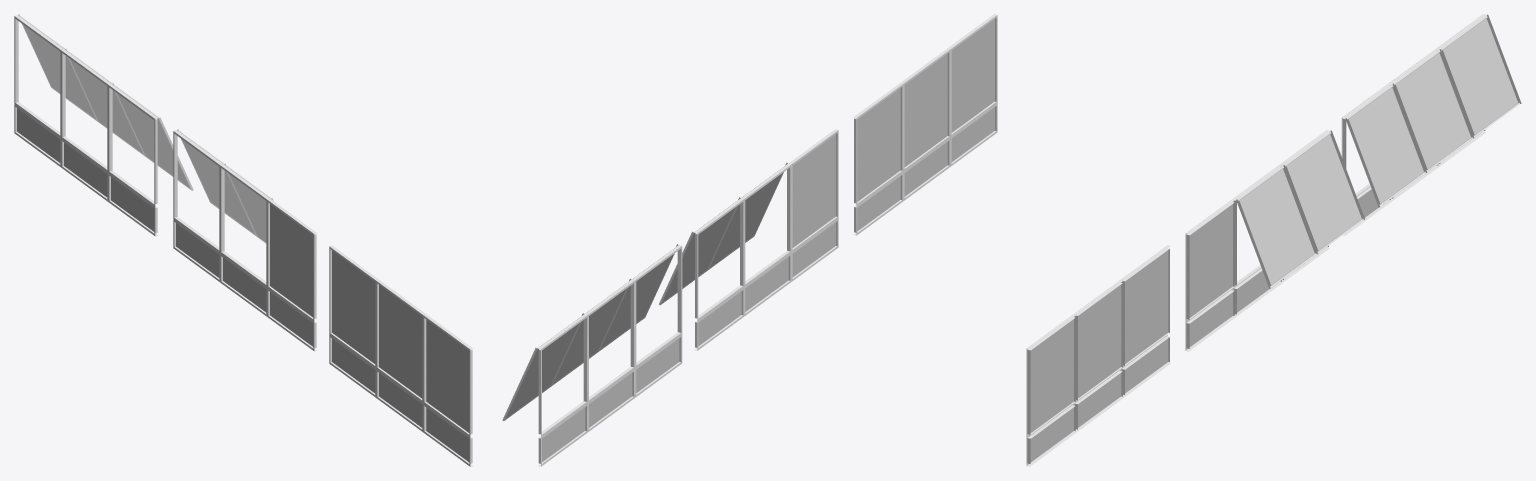
Rendered from MOD_Windows.fbx.
3 renders of one model, left to right at view 1: azimuth 30°, elevation 25°; view 2: azimuth 150°, elevation 25°; view 3: azimuth 330°, elevation 25°, orthographic.
Parts seen in each view (by area): view 1: MOD_Ventanas_00_Baked, MOD_Ventanas_01_Baked, MOD_Ventanas_02_Baked; view 2: MOD_Ventanas_00_Baked, MOD_Ventanas_01_Baked, MOD_Ventanas_02_Baked; view 3: MOD_Ventanas_01_Baked, MOD_Ventanas_02_Baked, MOD_Ventanas_00_Baked.
Boxes of the visible parts, x1,y1,x2,y2 form: MOD_Ventanas_00_Baked: (329, 245, 473, 466); MOD_Ventanas_01_Baked: (173, 129, 317, 351); MOD_Ventanas_02_Baked: (14, 14, 193, 236); MOD_Ventanas_00_Baked: (853, 14, 997, 235); MOD_Ventanas_01_Baked: (659, 129, 838, 350); MOD_Ventanas_02_Baked: (502, 244, 682, 466); MOD_Ventanas_01_Baked: (1185, 130, 1364, 351); MOD_Ventanas_02_Baked: (1341, 14, 1521, 235); MOD_Ventanas_00_Baked: (1026, 245, 1170, 466).
Bounding box in the file's own units: 79.99 × 226 × 1582.
